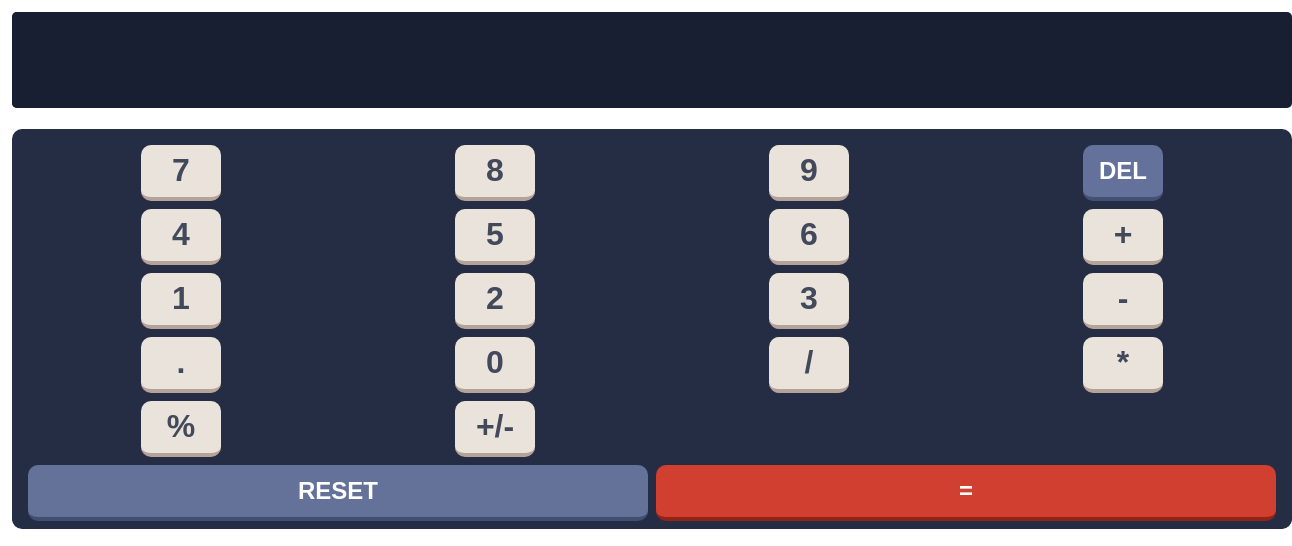
Test: Test for the diffetent actions to calculator components › add tow numbers correctly
The image size is (1292, 546).
Click the button "9".
click(809, 173)  # box [769,145,849,201]
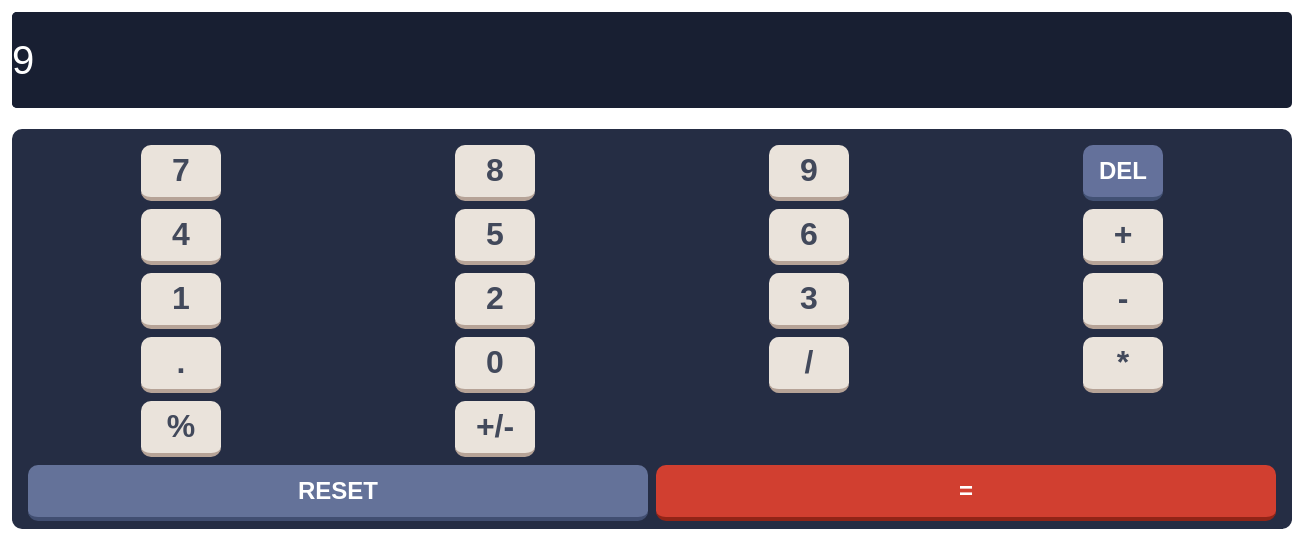
Click the button "+".
click(1123, 237)  # box [1083,209,1163,265]
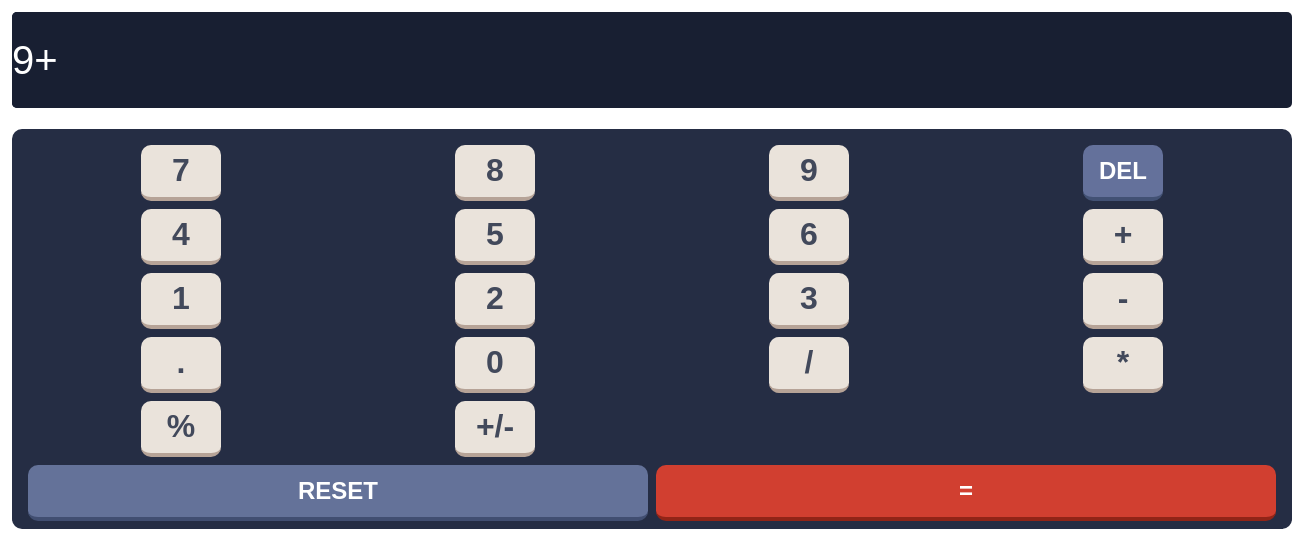
Click the button "2".
click(495, 301)  # box [455,273,535,329]
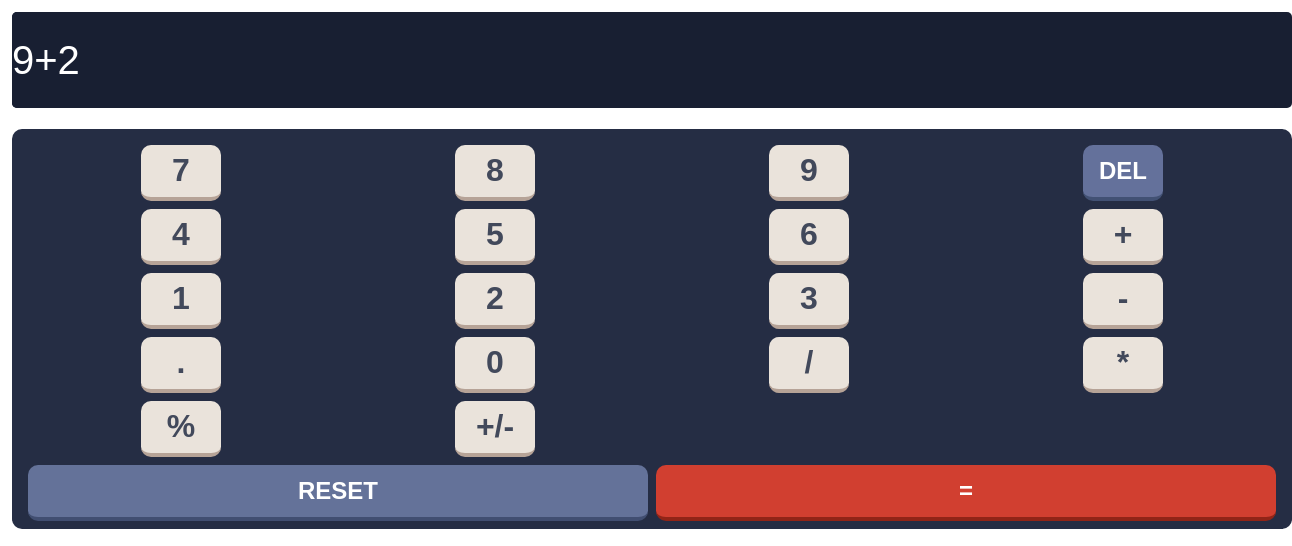
Click the button "=".
click(966, 493)  # box [656,465,1276,521]
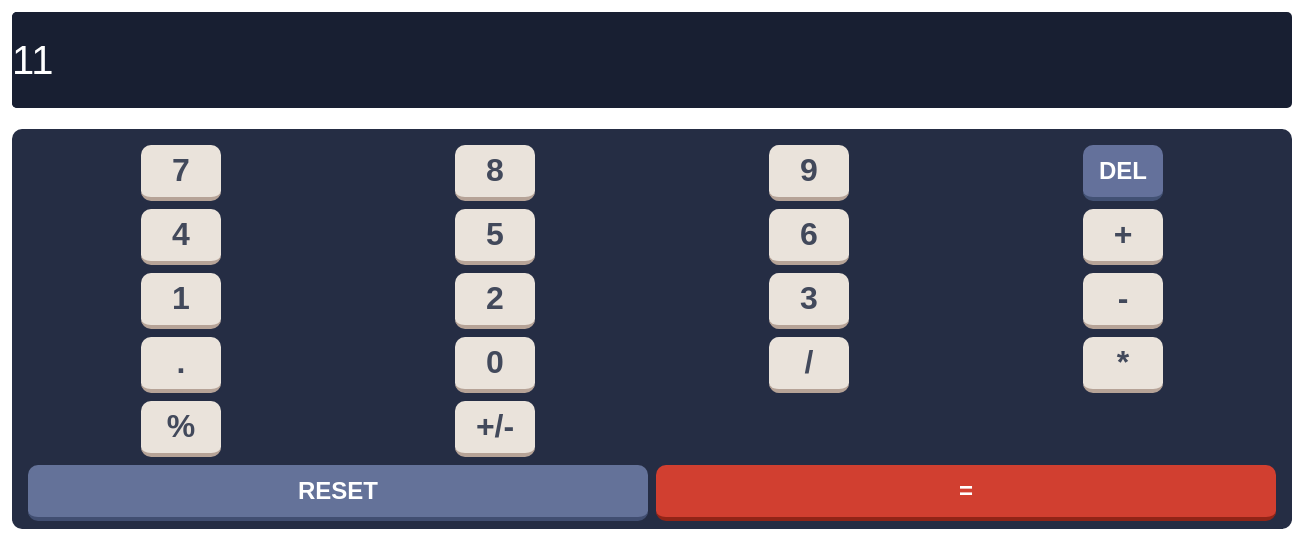
Expected: the field holds "11", [12,12,1276,108]
